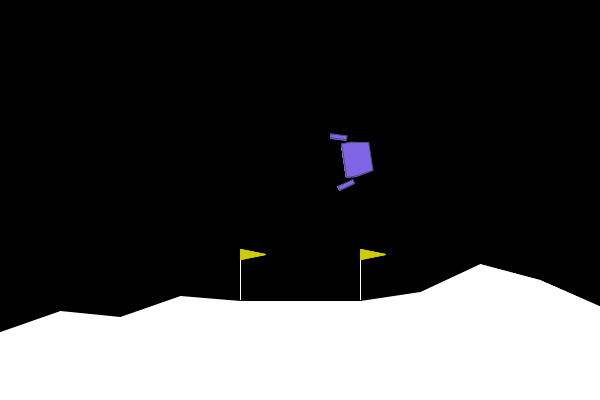lander: (328, 127, 377, 192)
